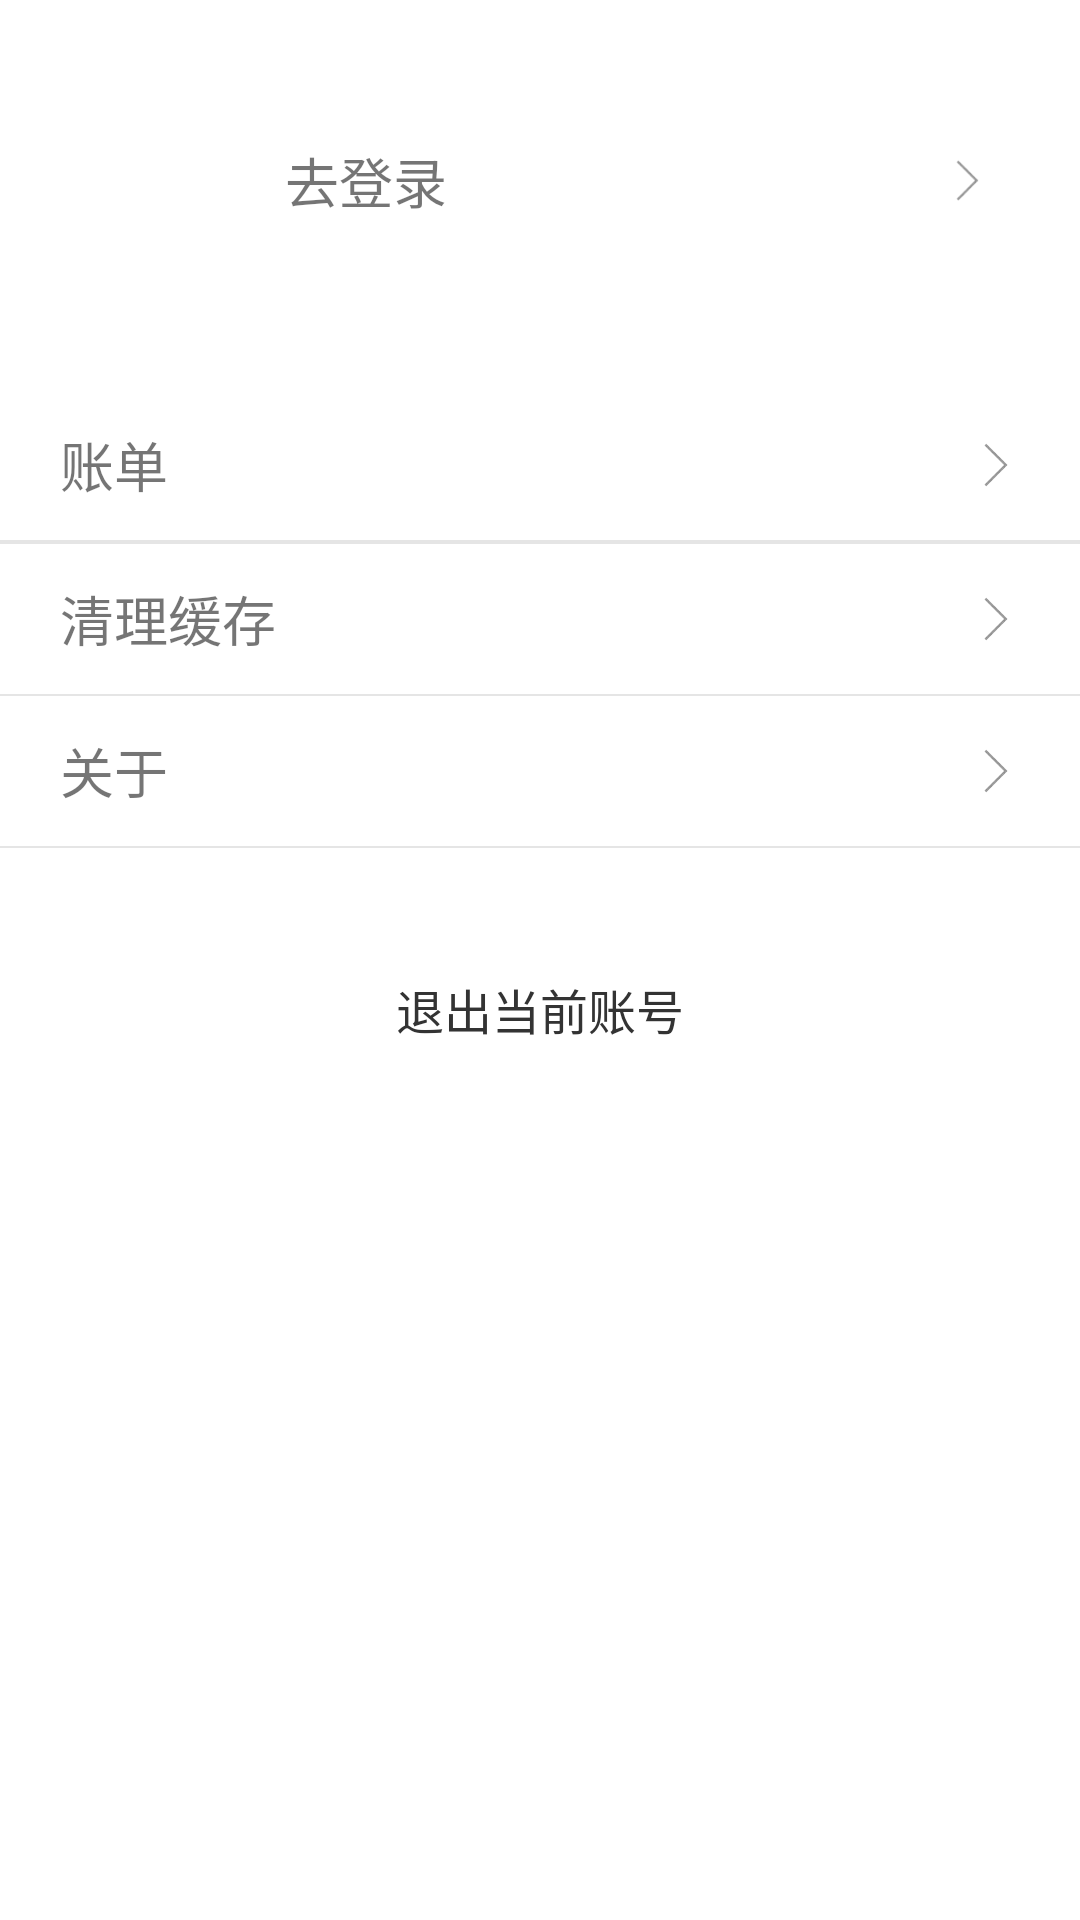

Icons on this 1080x1920 Android screen, each with its box as (x1, y1, x2, y2):
right arrow: (957, 161, 978, 200), (985, 444, 1007, 486), (985, 598, 1007, 640), (985, 750, 1007, 792)
